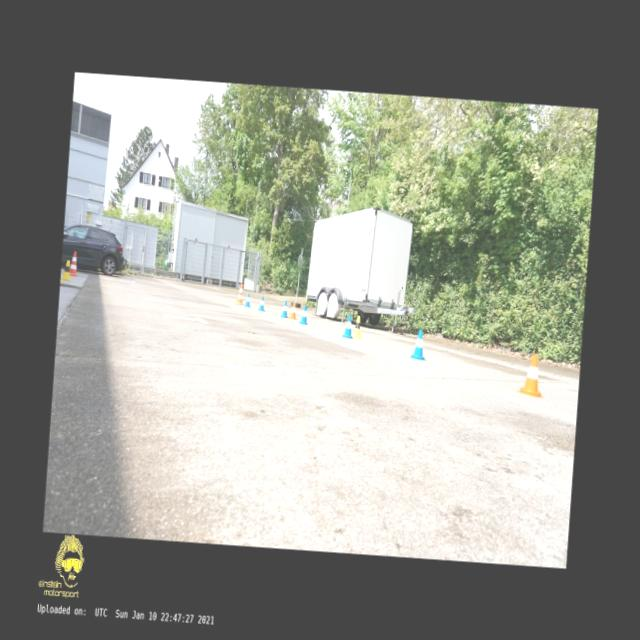blue_cone: (411, 328, 426, 359), (341, 314, 354, 338), (298, 304, 308, 324), (280, 299, 288, 318), (257, 295, 265, 311), (244, 292, 251, 306)
large_orange_cone: (69, 250, 79, 276), (235, 282, 245, 305)
orange_cone: (515, 353, 546, 398), (288, 302, 297, 319)
yellow_cone: (60, 258, 72, 280), (352, 315, 362, 338)
